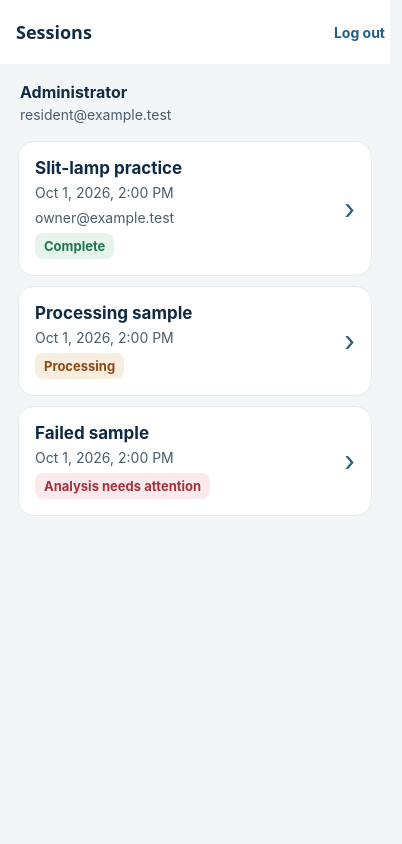
Test case: shows admin owner information and all four API summaries with interactive details
Later steps or results of the test are not shown.
Expected: the text "owner@example.test" is shown, [35,209,174,226]
Click the text "Slit-lamp practice": (109, 168) [35,158,182,178]
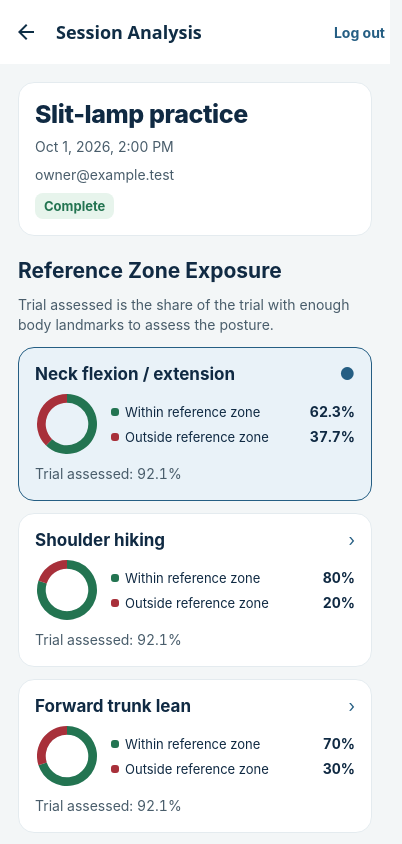
Expected: the heading "Reference Zone Exposure" is shown, [18,258,282,283]
Expected: the text "Trial assessed: 92.1%" is shown 4 times
Expected: the text "62.3%" is shown, [310,403,355,420]
